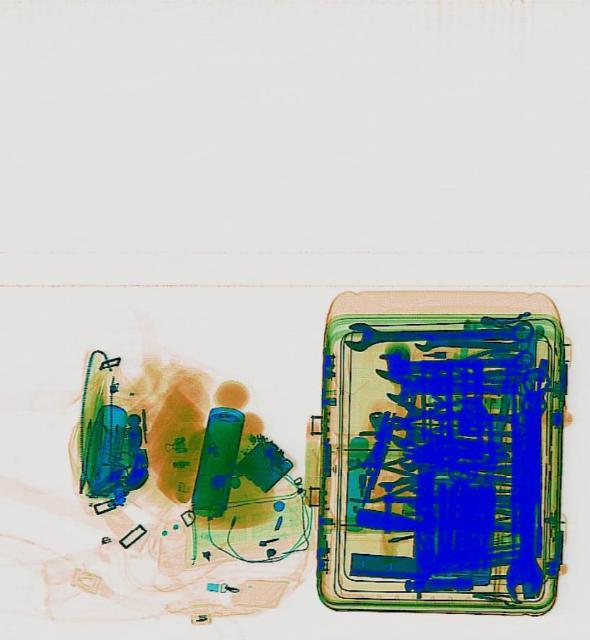Pliers: (345, 460, 438, 500), (355, 430, 439, 470)
Wrench: (502, 392, 552, 602), (341, 318, 532, 349), (372, 346, 533, 382)
